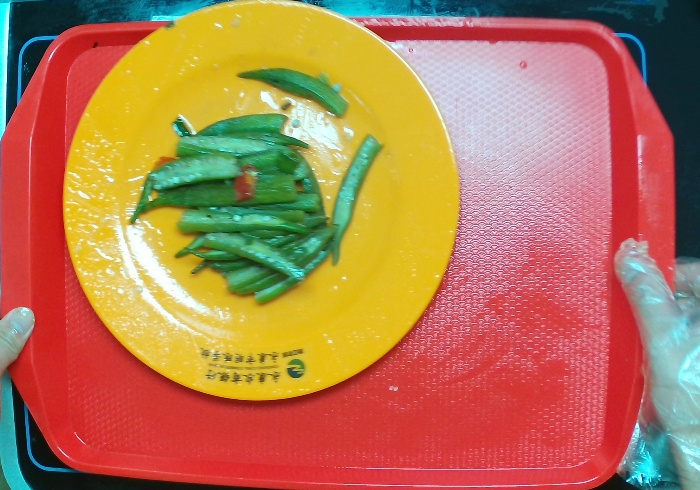YKMZ-Ju_Se_Mian_Pan: (61, 1, 461, 404)
